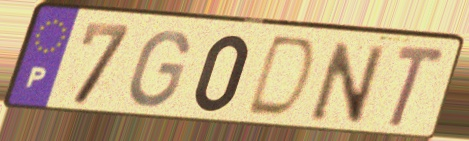0: (189, 32, 253, 116)
7: (71, 20, 135, 108)
D: (240, 32, 321, 123)
G: (125, 28, 192, 110)
N: (306, 38, 389, 125)
T: (384, 41, 451, 132)
